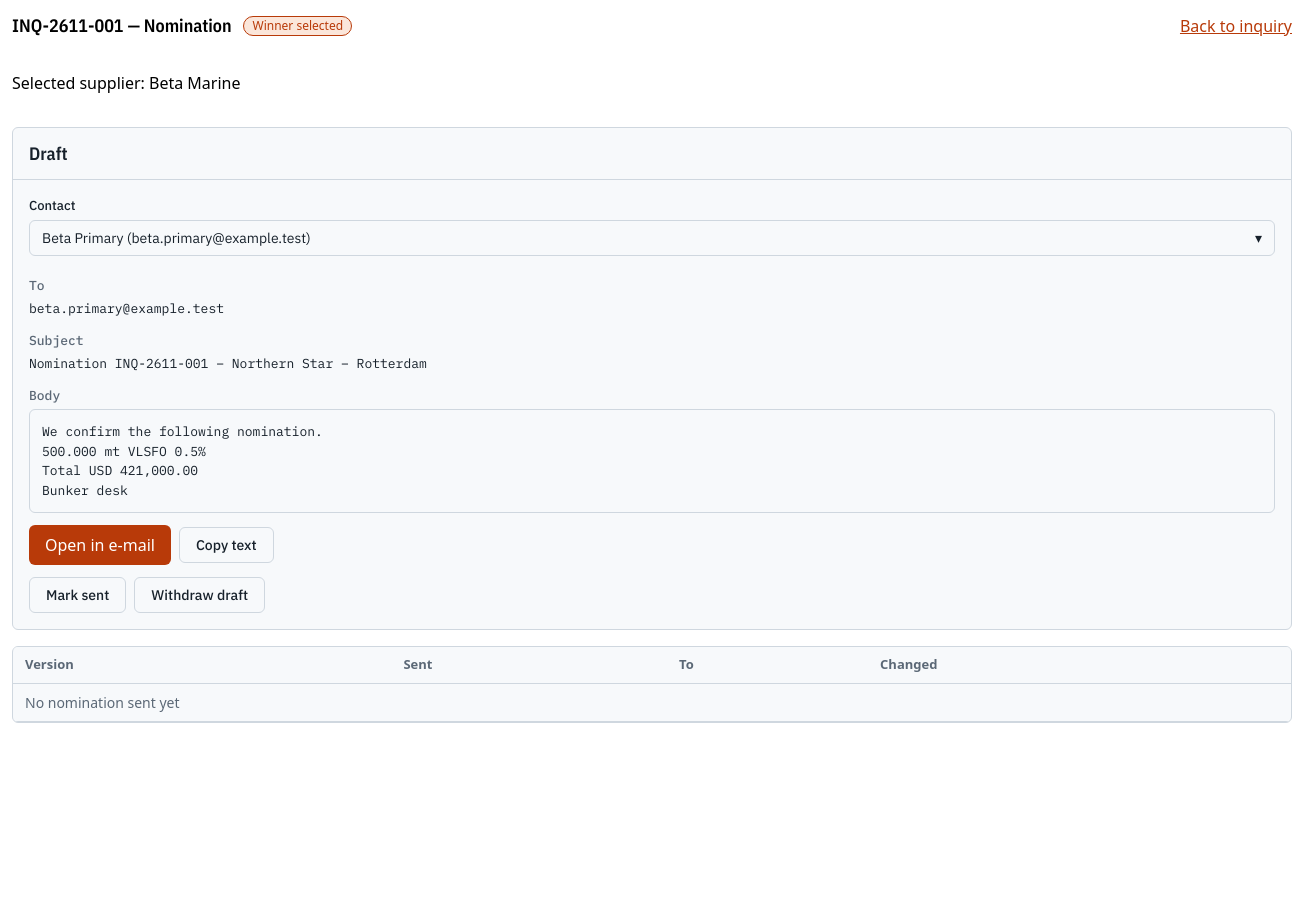
Test case: Nomination changes › [B5-R11] a stale 409 on mark-sent says so and reloads
The width and height of the screenshot is (1304, 912).
Click the button "Mark sent".
click(78, 595)  # box [29,577,126,613]
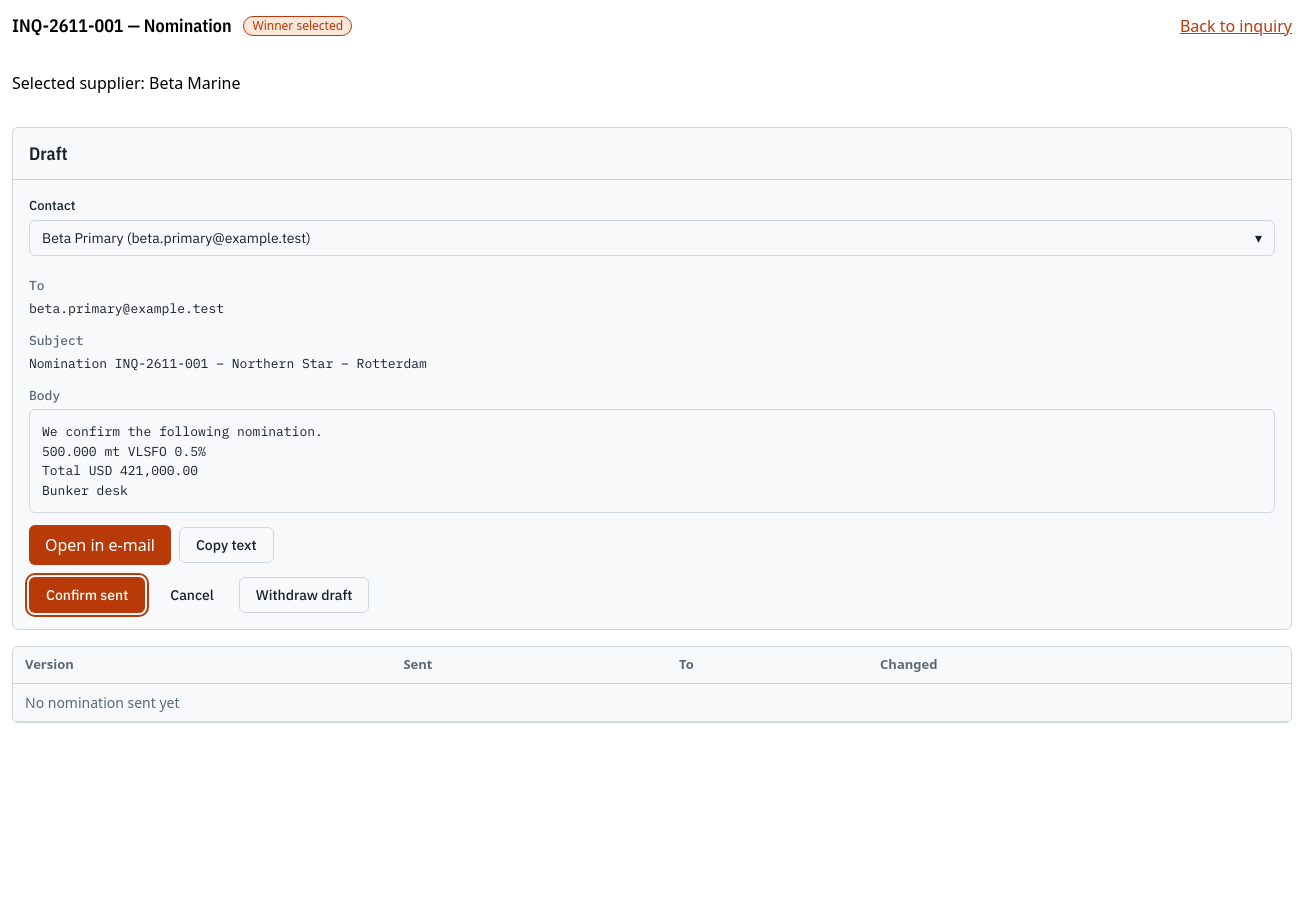
Click the button "Confirm sent".
click(87, 595)  # box [29,577,145,613]
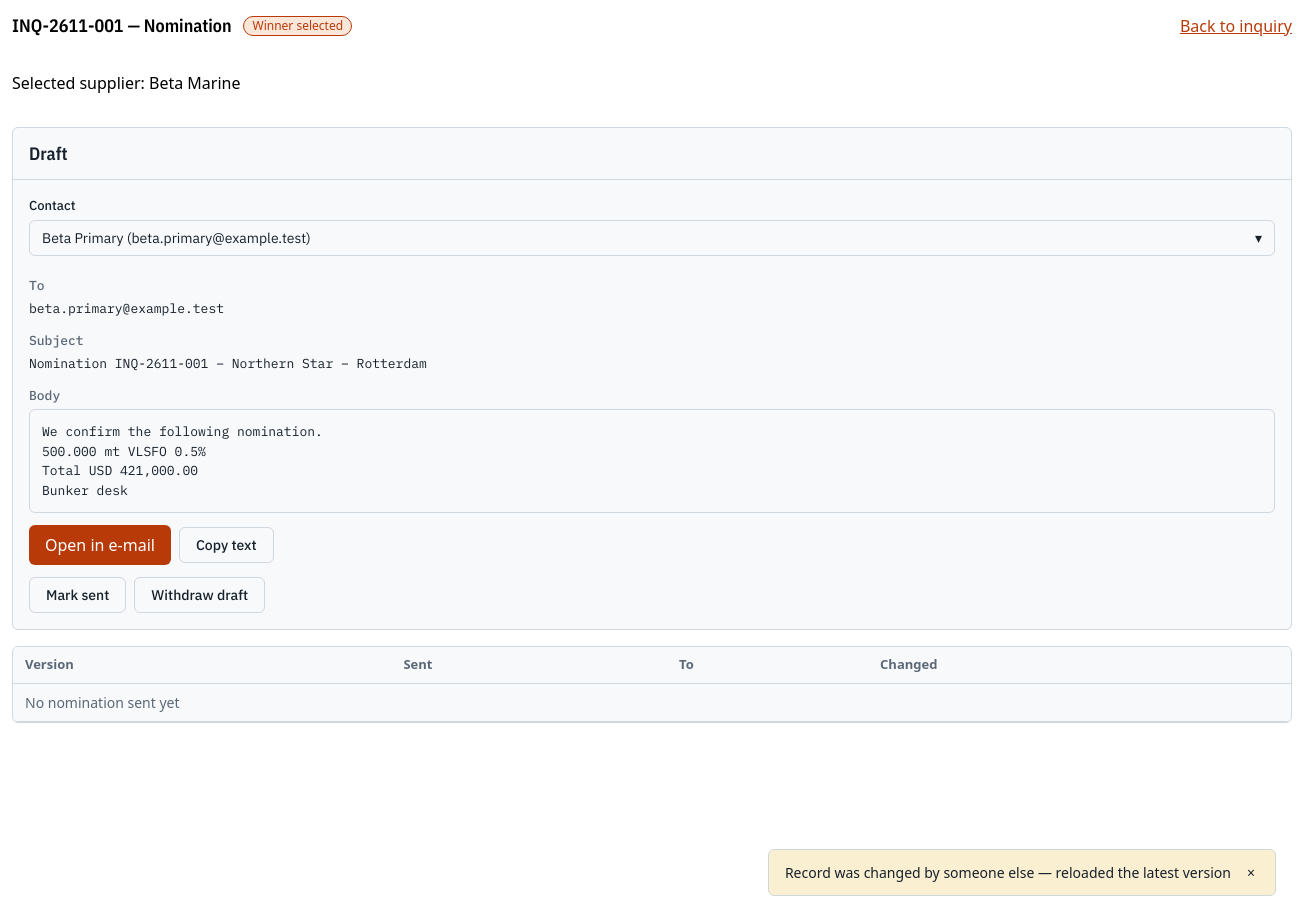
Expected: the text "changed by someone" is shown, [785,863,1231,882]
